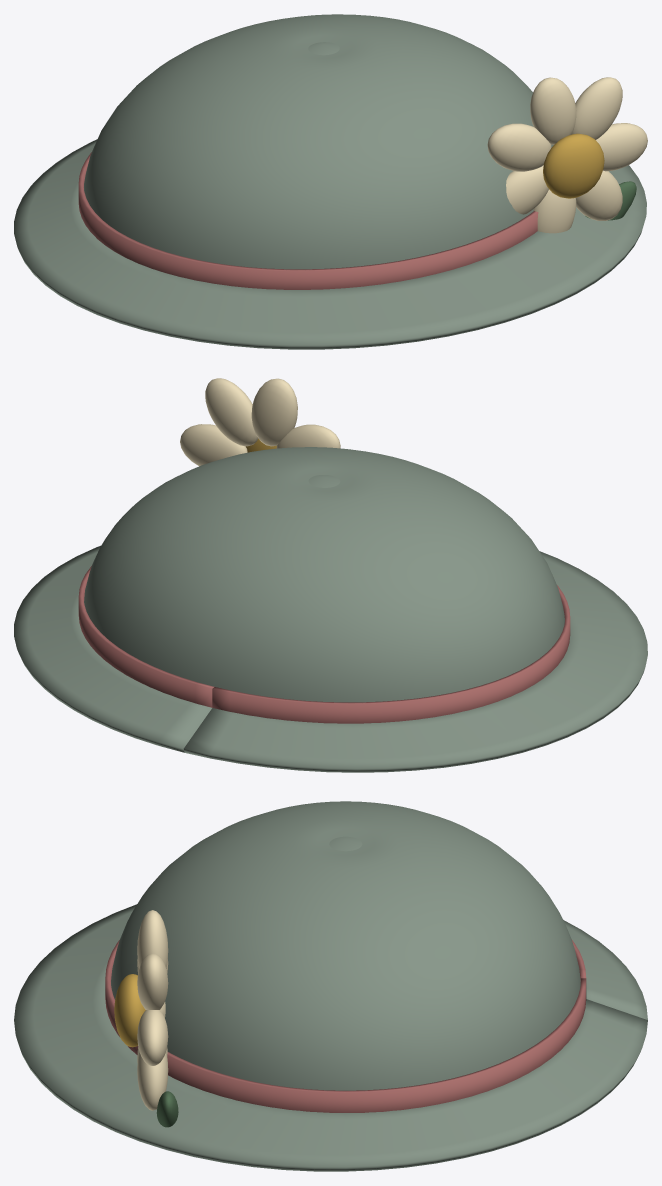
Rendered from goose-headwear-flower.glb.
3 views of the same model, one above another, from view 1: azimuth 30°, elevation 25°; view 2: azimuth 150°, elevation 25°; view 3: azimuth 270°, elevation 25° (orthographic). The views are drawn at different scales.
Parts seen in each view (by area): view 1: goose_headwear_flower_mesh; view 2: goose_headwear_flower_mesh; view 3: goose_headwear_flower_mesh.
Boxes of the visible parts, x1,y1,x2,y2 form: goose_headwear_flower_mesh: (14, 14, 647, 349); goose_headwear_flower_mesh: (14, 378, 647, 772); goose_headwear_flower_mesh: (14, 801, 647, 1171).
Bounding box in the file's own units: 1.21 × 0.3841 × 1.1.
